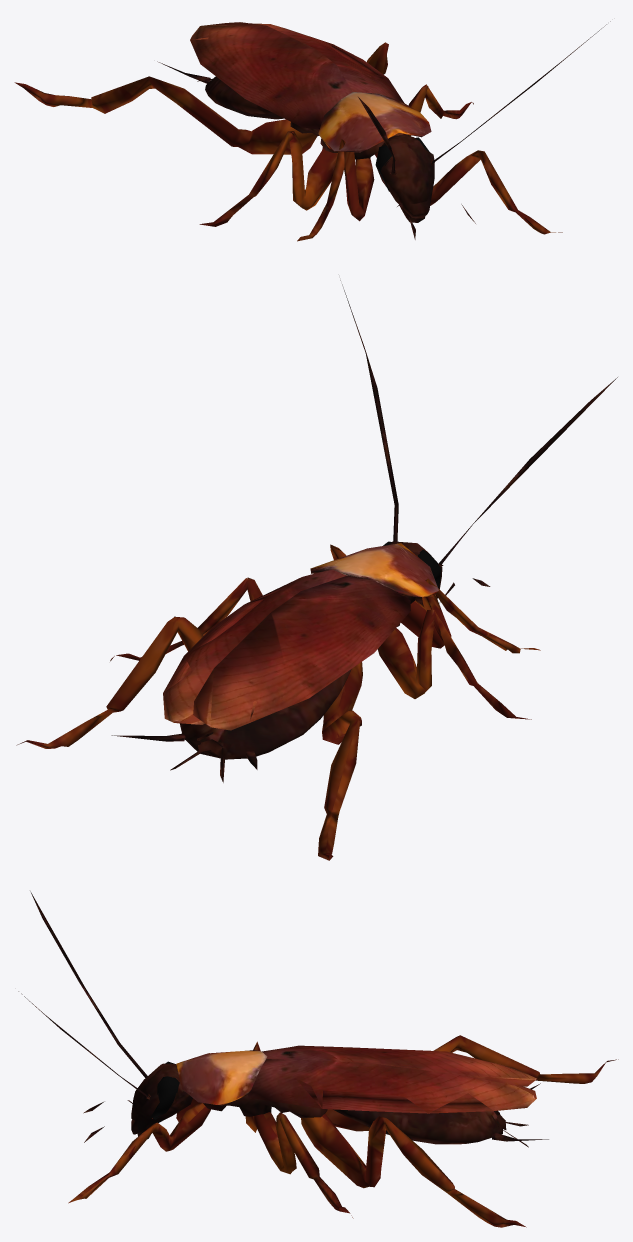
The model's file is cockroach.glb.
The picture shows the model from 3 angles, top to bottom: view 1: azimuth 30°, elevation 25°; view 2: azimuth 150°, elevation 25°; view 3: azimuth 270°, elevation 25°; orthographic projection. The views are drawn at different scales.
Visible parts, largest first — view 1: Object_7; view 2: Object_7; view 3: Object_7.
Part boxes in pixels (<box>): Object_7: <box>14,21,610,241</box>; Object_7: <box>16,280,617,860</box>; Object_7: <box>18,891,618,1227</box>.
Bounding box in the file's own units: 0.0243 × 0.018 × 0.0395.
Materials: 1 (1 with a texture image).
